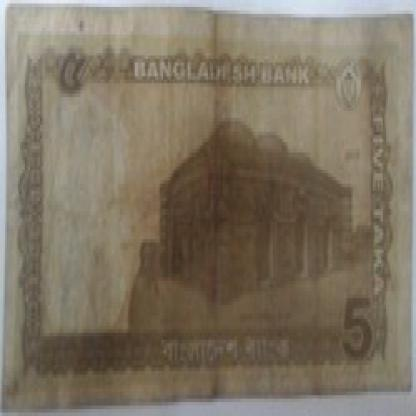Five Taka: (368, 104, 394, 309), (339, 288, 378, 378), (52, 45, 88, 114)
